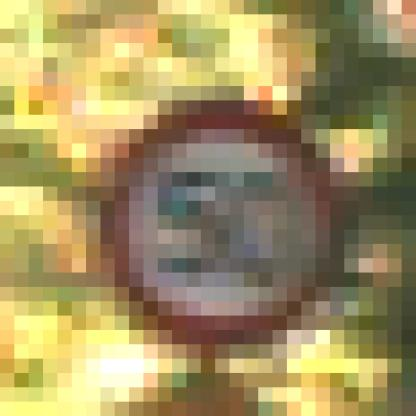Speed Limit 50: (113, 108, 338, 330)
